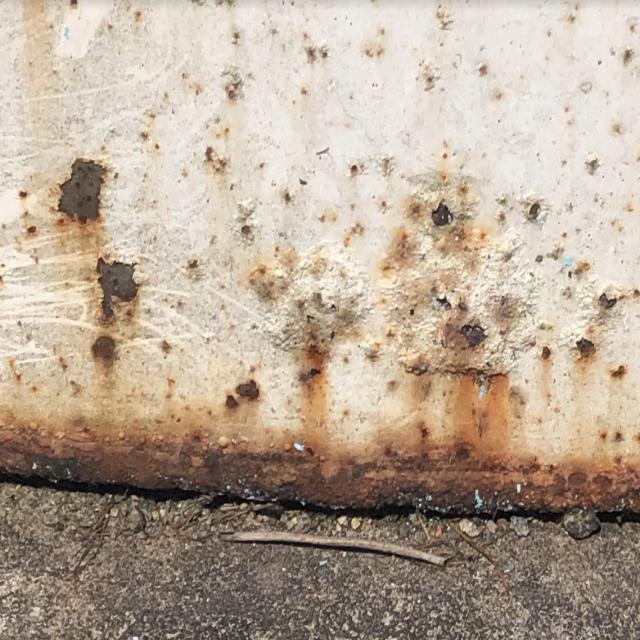Corrosion: (0, 409, 640, 525), (383, 172, 554, 374), (252, 240, 366, 356), (567, 280, 622, 363), (55, 155, 109, 226), (96, 254, 140, 321), (552, 226, 592, 282), (225, 380, 263, 413), (138, 106, 162, 157), (302, 26, 332, 64), (358, 339, 387, 371), (235, 198, 254, 246), (90, 333, 116, 368), (598, 426, 640, 445), (224, 67, 244, 102), (203, 145, 227, 174), (363, 28, 387, 56), (342, 220, 364, 246), (295, 367, 324, 386), (181, 72, 201, 95), (584, 151, 601, 178), (419, 64, 436, 90), (159, 337, 175, 363), (611, 360, 629, 382), (376, 153, 394, 175), (622, 46, 638, 70), (437, 5, 450, 34), (8, 358, 22, 382), (347, 159, 363, 180), (416, 420, 432, 440), (321, 207, 336, 228), (186, 258, 201, 277), (167, 377, 176, 400), (442, 138, 450, 162), (60, 351, 68, 375), (71, 378, 81, 396), (17, 188, 30, 201), (68, 0, 82, 11), (27, 222, 36, 238), (632, 285, 640, 303), (284, 191, 292, 208), (133, 7, 142, 21), (389, 379, 402, 388), (479, 64, 488, 76), (30, 381, 37, 396)
